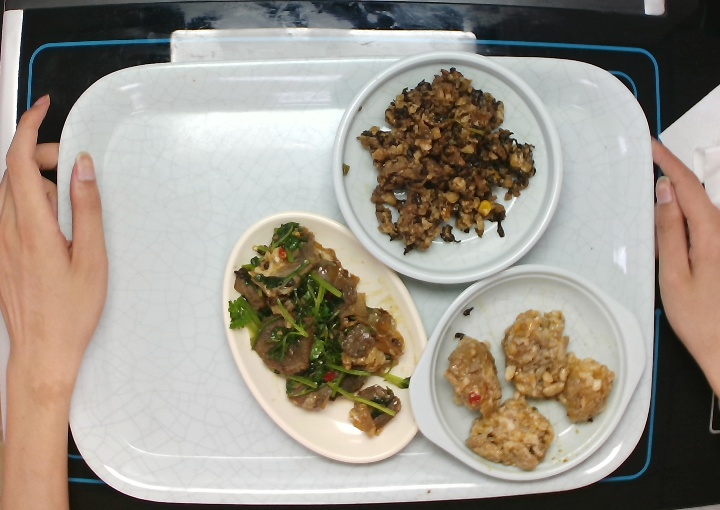JYsf-Shuang_Er_Pan: (401, 262, 652, 487)
JYsf-Tuo_Yuan_Wan: (218, 205, 434, 473)
JYsf-Xiao_Yuan_Pan: (328, 48, 573, 287)
